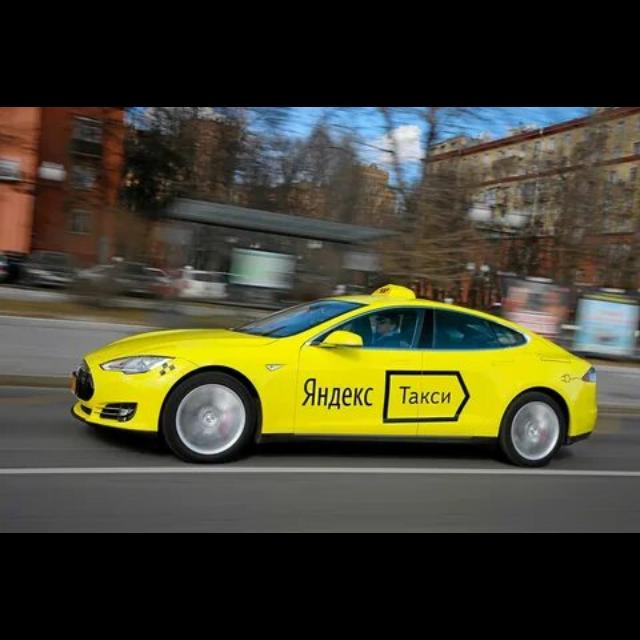taxi: (70, 284, 599, 468)
